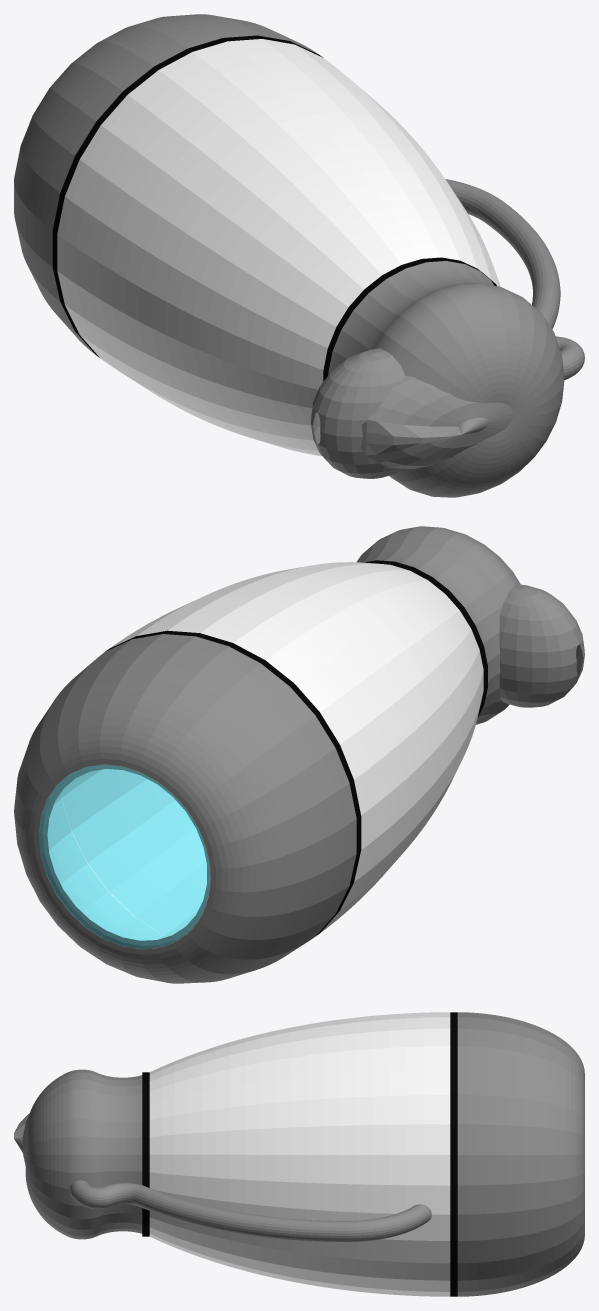
The picture shows the model from 3 angles, top to bottom: view 1: azimuth 30°, elevation 25°; view 2: azimuth 150°, elevation 25°; view 3: azimuth 270°, elevation 25°; orthographic projection. The views are drawn at different scales.
Parts seen in each view (by area): view 1: thermos style and designe; view 2: thermos style and designe; view 3: thermos style and designe.
Boxes of the visible parts, left/top/right/bottom form: thermos style and designe: left=14, top=14, right=584, bottom=497; thermos style and designe: left=14, top=526, right=584, bottom=983; thermos style and designe: left=14, top=1012, right=584, bottom=1296.
Bounding box in the file's own units: 111 × 94.69 × 190.
